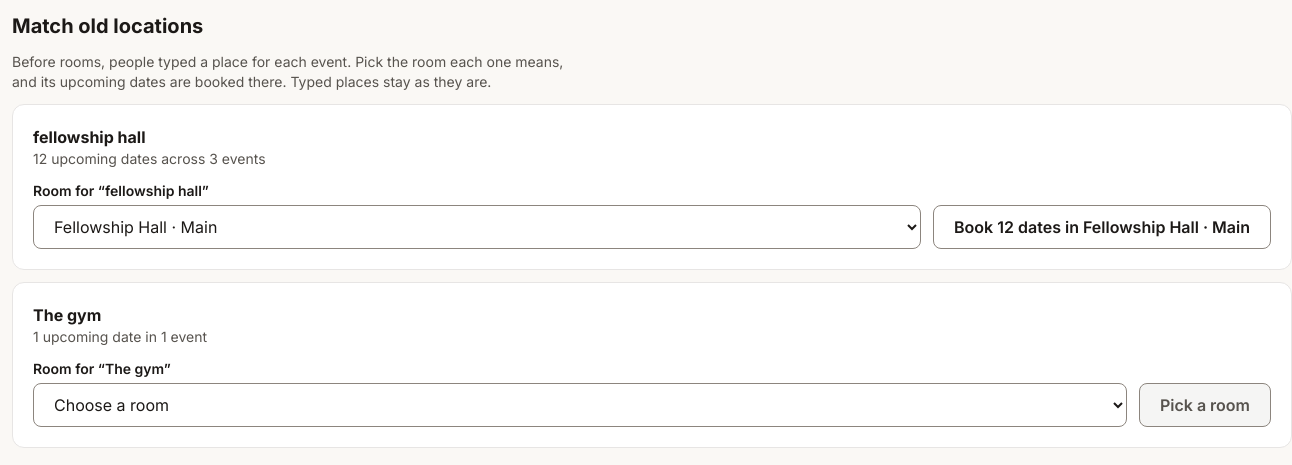
MatchLocations › books on the button, says what happened, refetches, and moves the cursor to the message
Check: the text "fellowship hall" is shown, box x1=33 y1=127 x2=146 y2=147
Click the button "Book 12 dates in Fellowship Hall · Main": [1102, 227] box x1=933 y1=205 x2=1271 y2=249
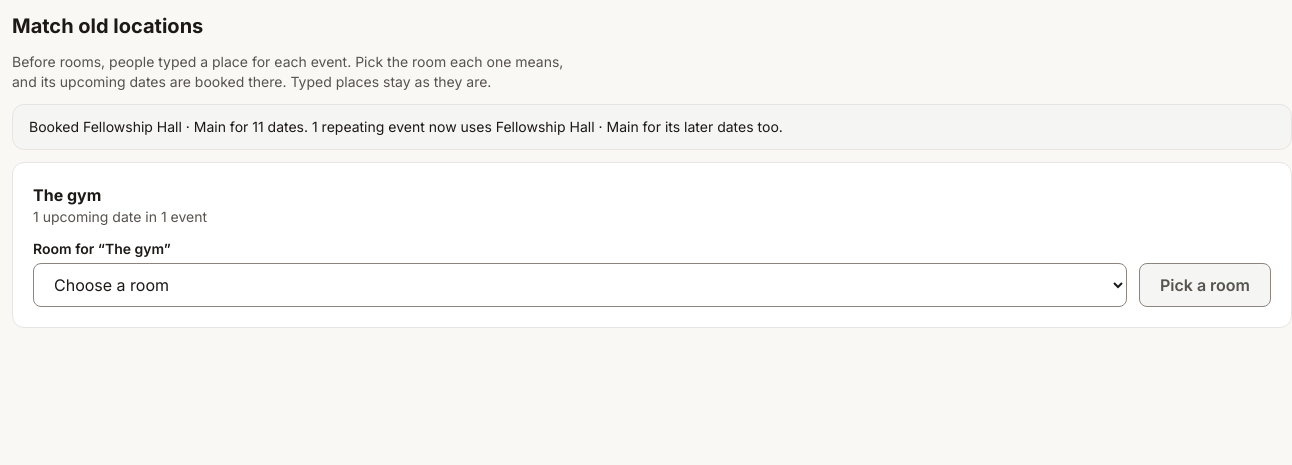
Check: the text "The gym" is shown, box x1=33 y1=185 x2=101 y2=205
Check: the message shows "Booked Fellowship Hall · Main for 11 dates. 1 repeating event now uses Fellowship Hall · Main for its later dates too.", box x1=29 y1=118 x2=783 y2=135
